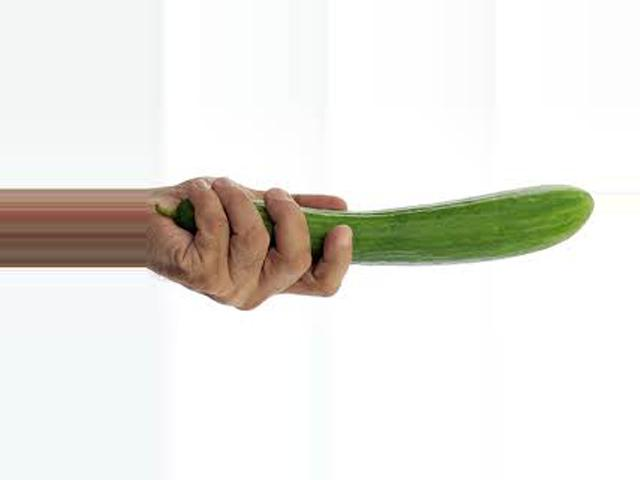cucumber: (157, 183, 596, 264)
